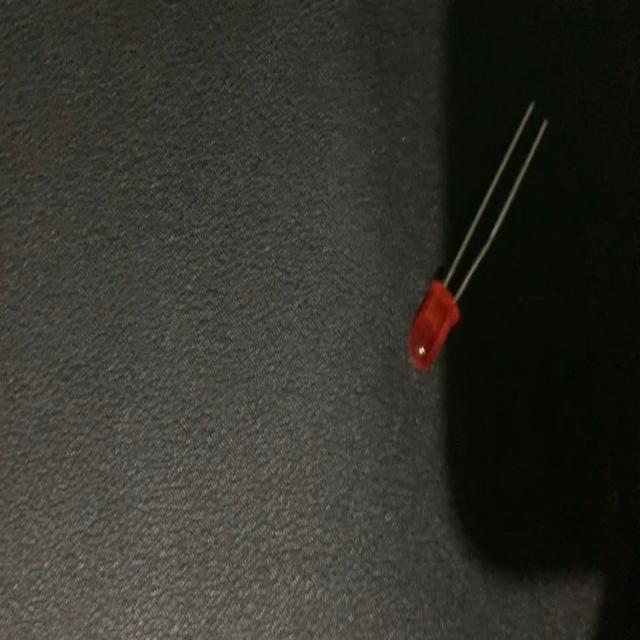LED: (406, 97, 550, 378)
